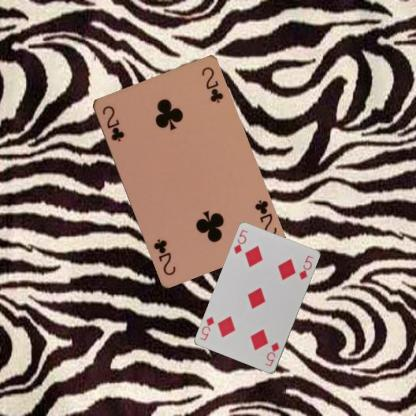2c: (251, 197, 278, 237), (100, 103, 126, 143)
5d: (262, 340, 281, 368), (231, 227, 249, 255)
